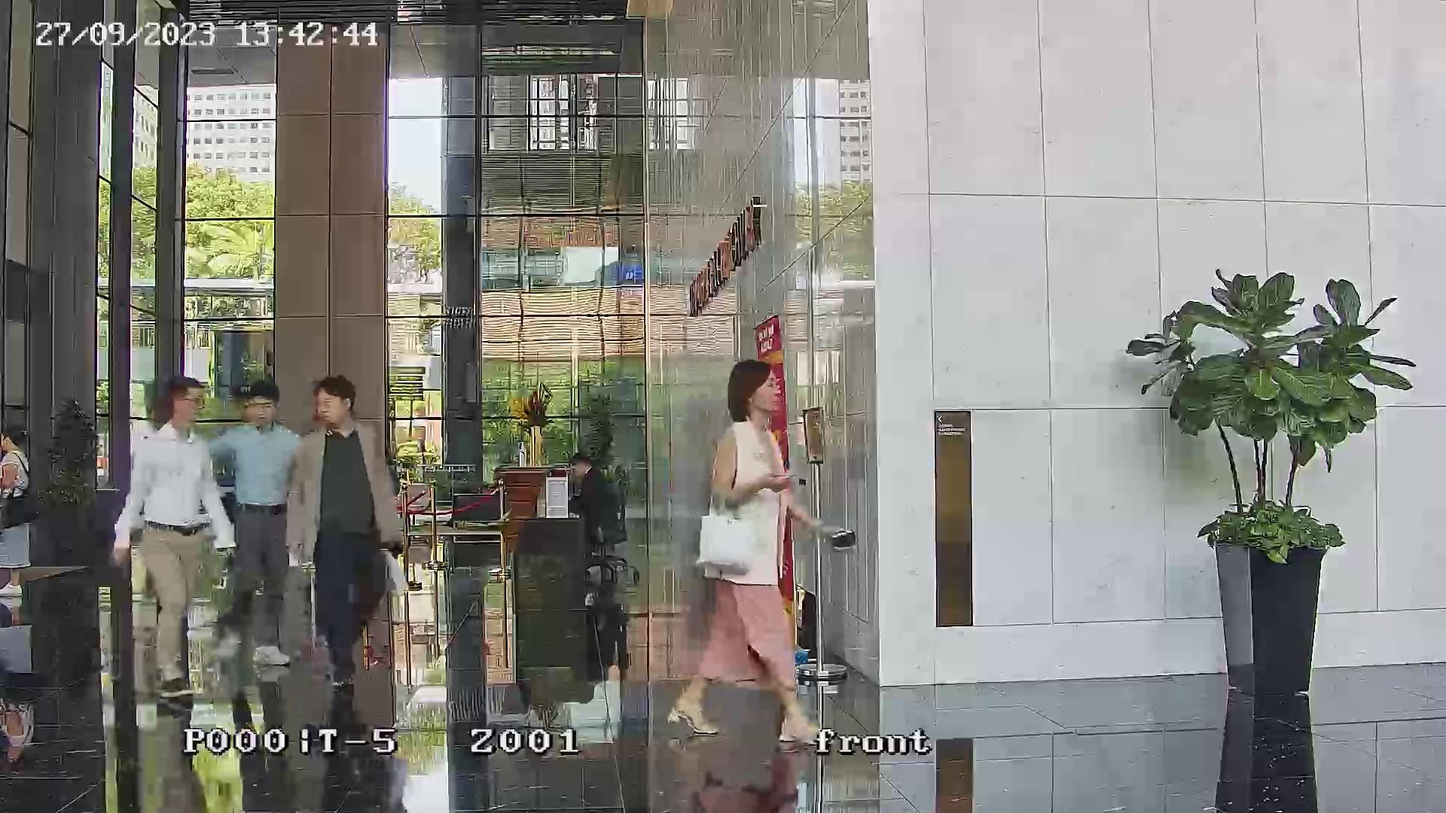person: (667, 358, 822, 752), (110, 373, 234, 697), (284, 374, 403, 691), (208, 379, 302, 674), (0, 423, 30, 599), (566, 452, 616, 532)
